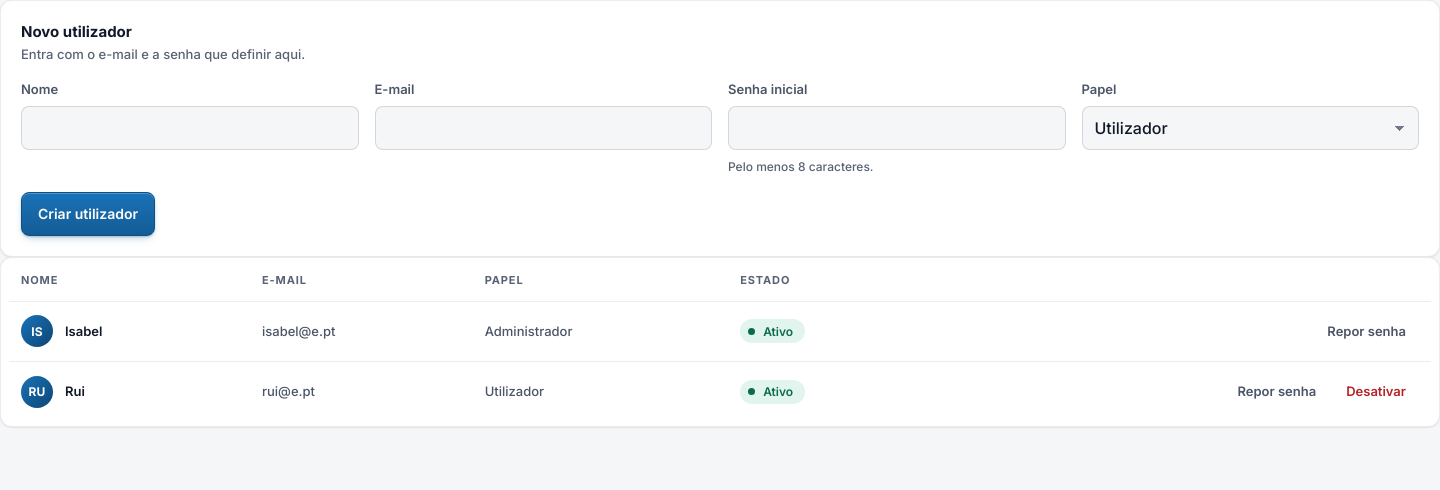
Test: UsersManager › repõe a senha com a que o admin escrever
Click the button "Repor senha" in the row of "rui@e.pt" at (1277, 392), box x1=1224 y1=374 x2=1329 y2=410
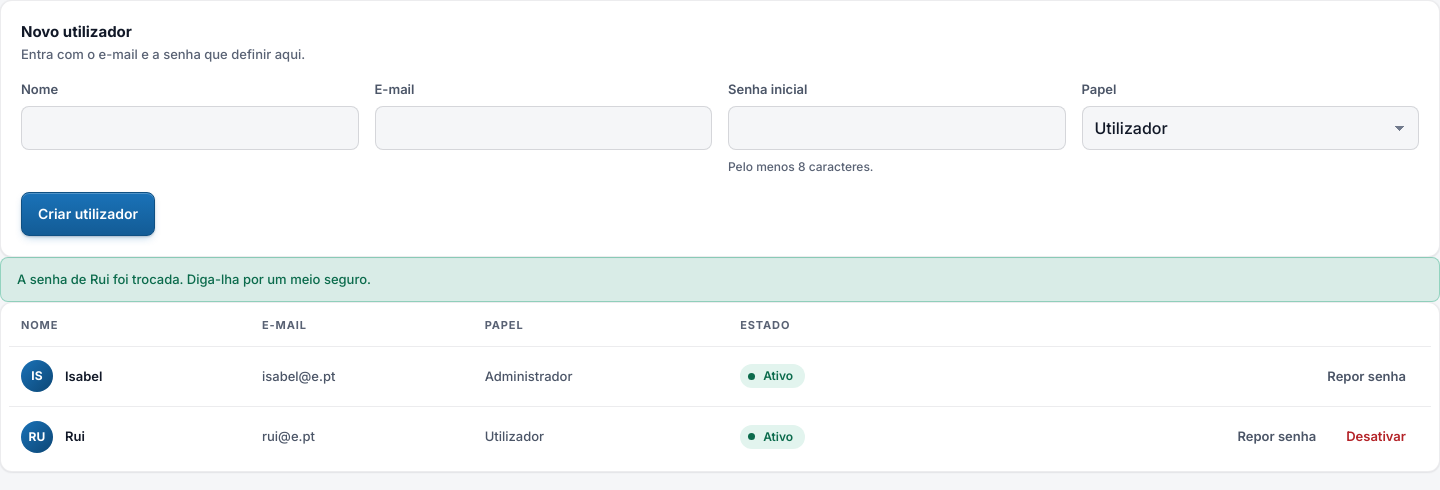
Expected: the message shows "A senha de Rui foi trocada", x1=17 y1=271 x2=371 y2=287
